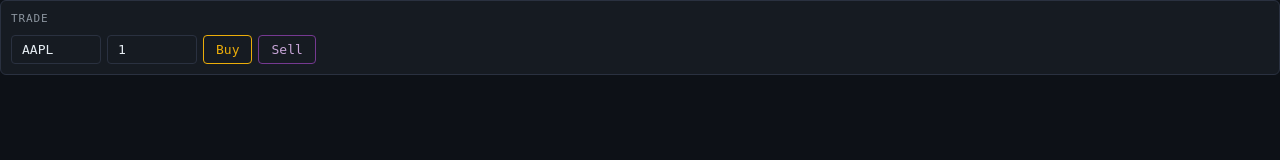
Test case: TradeBar › rejects non-positive quantity
Replace the text in the number field named "Quantity" with "0": (152, 49) [107,35,197,64]
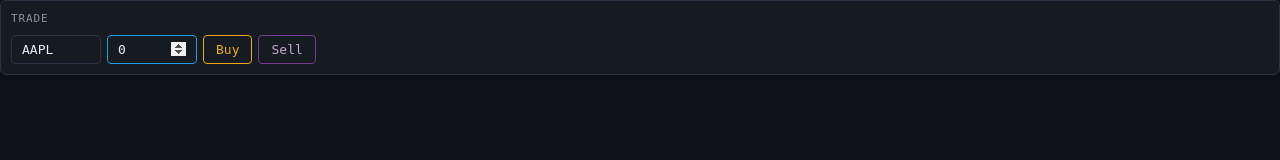
Click the button with test id "buy-button": (228, 49) [203,35,252,64]
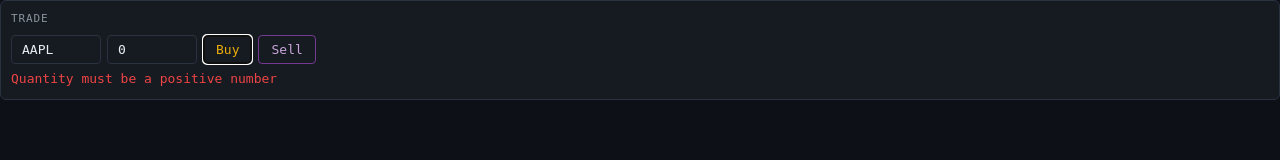
Expected: the message shows "positive", [11,71,277,86]
